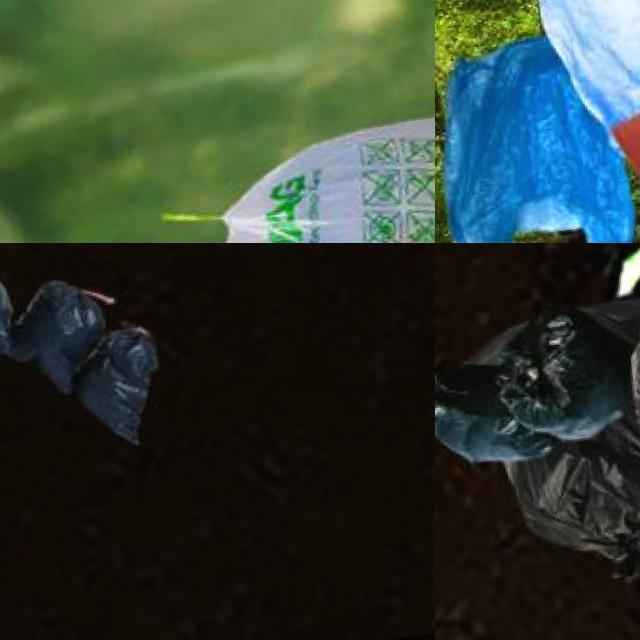waste: (476, 289, 640, 586), (435, 20, 640, 243), (221, 97, 435, 243), (509, 0, 640, 113), (68, 321, 170, 448), (595, 0, 640, 243), (17, 277, 107, 392)
